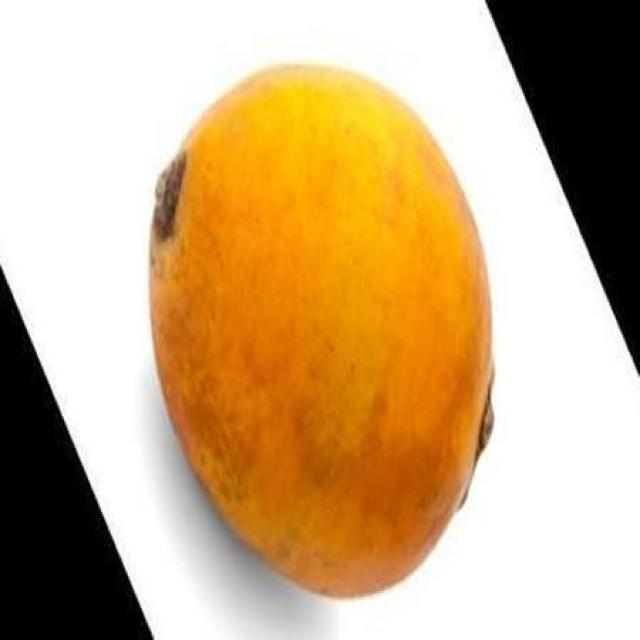good: (146, 68, 494, 602)
